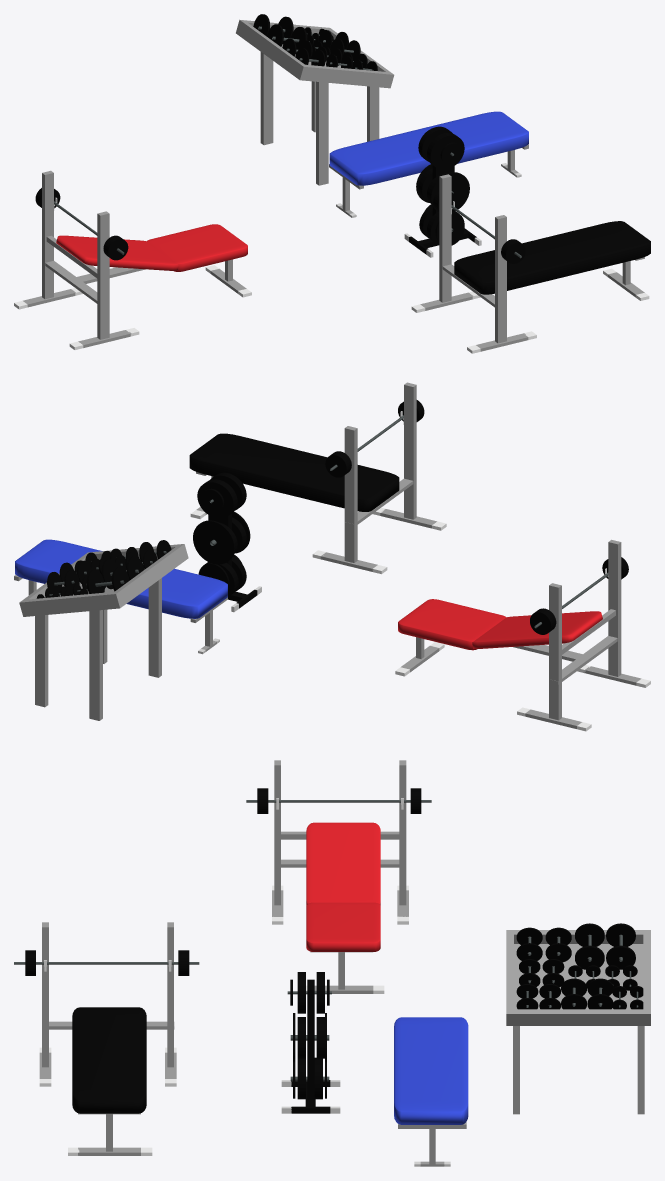
File: gym_equipments.glb
3 renders of one model, top to bottom at view 1: azimuth 30°, elevation 25°; view 2: azimuth 150°, elevation 25°; view 3: azimuth 270°, elevation 25°, orthographic. The views are drawn at different scales.
Parts seen in each view (by area): view 1: Roundcube, Cube.004, Roundcube.002, Cube.001, Roundcube.001, Cube.009, Cylinder.022, Cylinder, Cylinder.001, Cylinder.019, Cylinder.004, Cylinder.005; view 2: Cube.004, Roundcube, Cube.001, Roundcube.001, Cube.009, Roundcube.002, Cylinder.022, Cylinder, Cylinder.001, Cylinder.020, Cylinder.005, Cylinder.004 (+1 smaller); view 3: Roundcube.001, Roundcube.002, Roundcube, Cube.004, Cube.009, Cube.001, Cylinder.004, Cylinder.005, Cylinder.001, Cylinder, Cube.011, Cylinder.003 (+3 smaller).
Boxes of the visible parts, bbox=[...] form: Roundcube: bbox=[454, 221, 650, 294]; Cube.004: bbox=[236, 19, 394, 185]; Roundcube.002: bbox=[329, 111, 528, 185]; Cube.001: bbox=[14, 170, 251, 349]; Roundcube.001: bbox=[56, 224, 247, 271]; Cube.009: bbox=[411, 174, 649, 353]; Cylinder.022: bbox=[416, 164, 469, 212]; Cylinder: bbox=[433, 192, 525, 263]; Cylinder.001: bbox=[35, 188, 128, 260]; Cylinder.019: bbox=[427, 133, 464, 169]; Cylinder.004: bbox=[267, 24, 307, 53]; Cylinder.005: bbox=[253, 14, 293, 44]; Cube.004: bbox=[19, 544, 188, 720]; Roundcube: bbox=[189, 433, 399, 511]; Cube.001: bbox=[395, 539, 650, 731]; Roundcube.001: bbox=[398, 599, 602, 650]; Cube.009: bbox=[190, 382, 446, 574]; Roundcube.002: bbox=[15, 539, 227, 618]; Cylinder.022: bbox=[193, 511, 250, 564]; Cylinder: bbox=[325, 400, 424, 477]; Cylinder.001: bbox=[530, 557, 628, 634]; Cylinder.020: bbox=[197, 479, 237, 518]; Cylinder.005: bbox=[86, 567, 129, 593]; Cylinder.004: bbox=[101, 556, 144, 589]; Roundcube.001: bbox=[306, 822, 380, 951]; Roundcube.002: bbox=[394, 1017, 468, 1124]; Roundcube: bbox=[72, 1007, 146, 1113]; Cube.004: bbox=[506, 930, 650, 1114]; Cube.009: bbox=[39, 922, 176, 1155]; Cube.001: bbox=[272, 760, 408, 993]; Cylinder.004: bbox=[575, 923, 604, 969]; Cylinder.005: bbox=[606, 923, 635, 969]; Cylinder.001: bbox=[246, 788, 431, 813]; Cylinder: bbox=[14, 950, 199, 975]; Cube.011: bbox=[307, 979, 314, 1099]; Cylinder.003: bbox=[545, 927, 571, 962].
Size of the model in its own units: 8.04 by 2.08 by 7.69.
